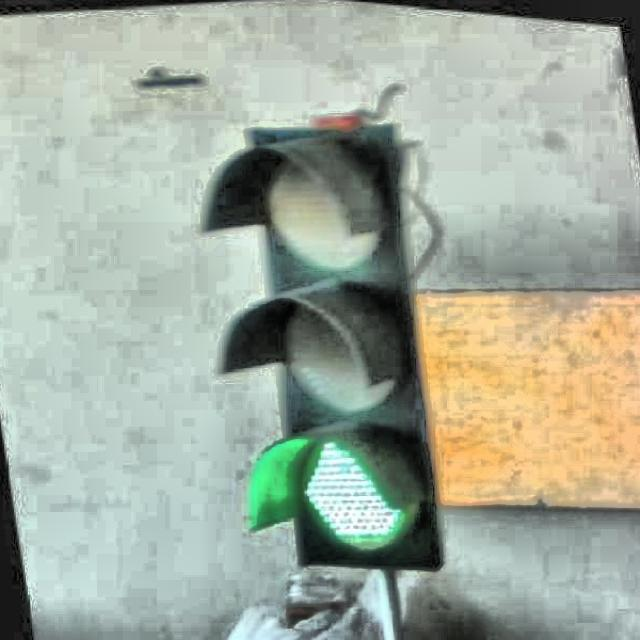green: (181, 98, 462, 587)
